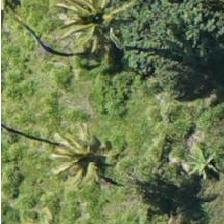coconut_tree: (37, 110, 127, 200), (51, 0, 141, 62)
